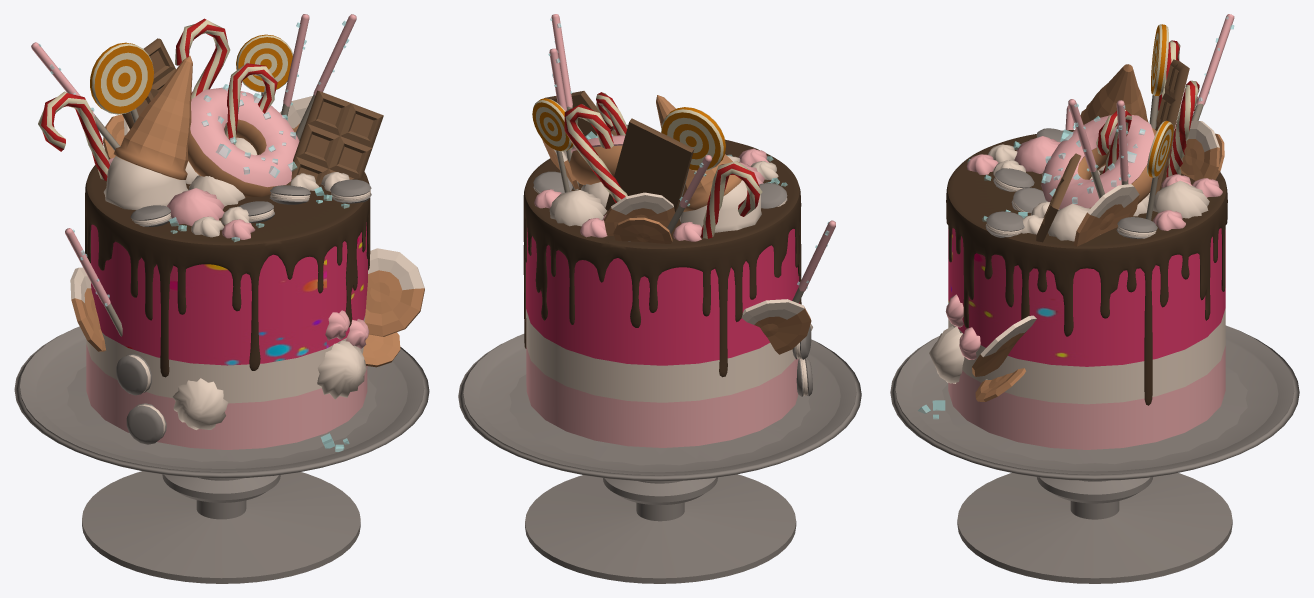
The model's file is cake_v22.glb.
3 views of the same model, side by side, from view 1: azimuth 30°, elevation 25°; view 2: azimuth 150°, elevation 25°; view 3: azimuth 270°, elevation 25° (orthographic). The views are drawn at different scales.
Visible parts, largest first — view 1: pCylinder19_gold_0_81, pCylinder1_main_0_74, pCylinder3_chocolate_0_116, pCylinder1_palepink1_0_75, pCylinder1_white_0_76, pCube38_palepink1_0_38, pCube54_choco_0_70, pCylinder18_waffel_0_78, pCylinder18_white_0_79, pCylinder30_waffel_0_118, pCylinder28_blinn5_0_108, palepink18_white_0_16 (+28 smaller); view 2: pCylinder19_gold_0_81, pCylinder1_main_0_74, pCylinder3_chocolate_0_116, pCylinder1_palepink1_0_75, pCylinder1_white_0_76, pCube70_choco_0_72, pCylinder18_white_0_79, palepink12_white_0_4, pCylinder28_blinn5_0_108, pCylinder35_waffel_0_133, pCylinder18_waffel_0_78, pCylinder28_lambert1_0_109 (+17 smaller); view 3: pCylinder19_gold_0_81, pCylinder1_main_0_74, pCylinder3_chocolate_0_116, pCylinder1_palepink1_0_75, pCylinder1_white_0_76, pCube38_palepink1_0_38, pCylinder18_waffel_0_78, palepink12_white_0_4, pCube70_choco_0_72, palepink17_white_0_14, pCylinder33_waffel_0_127, pCylinder32_waffel_0_124 (+26 smaller).
Boxes of the visible parts, x1,y1,x2,y2 form: pCylinder19_gold_0_81: [14, 326, 429, 583]; pCylinder1_main_0_74: [90, 222, 367, 365]; pCylinder3_chocolate_0_116: [85, 165, 370, 377]; pCylinder1_palepink1_0_75: [86, 344, 367, 449]; pCylinder1_white_0_76: [86, 315, 365, 403]; pCube38_palepink1_0_38: [190, 87, 299, 187]; pCube54_choco_0_70: [287, 90, 383, 185]; pCylinder18_waffel_0_78: [113, 56, 192, 179]; pCylinder18_white_0_79: [103, 156, 188, 210]; pCylinder30_waffel_0_118: [364, 270, 424, 336]; pCylinder28_blinn5_0_108: [90, 42, 153, 113]; palepink18_white_0_16: [172, 378, 228, 429]; pCylinder19_gold_0_81: [458, 334, 861, 583]; pCylinder1_main_0_74: [526, 228, 799, 365]; pCylinder3_chocolate_0_116: [523, 139, 801, 377]; pCylinder1_palepink1_0_75: [526, 347, 798, 447]; pCylinder1_white_0_76: [526, 309, 795, 402]; pCube70_choco_0_72: [605, 118, 694, 212]; pCylinder18_white_0_79: [679, 180, 761, 232]; palepink12_white_0_4: [549, 190, 606, 226]; pCylinder28_blinn5_0_108: [661, 107, 725, 170]; pCylinder35_waffel_0_133: [754, 306, 811, 354]; pCylinder18_waffel_0_78: [656, 95, 741, 211]; pCylinder28_lambert1_0_109: [661, 108, 724, 170]; pCylinder19_gold_0_81: [890, 325, 1299, 583]; pCylinder1_main_0_74: [948, 228, 1225, 366]; pCylinder3_chocolate_0_116: [946, 130, 1227, 405]; pCylinder1_palepink1_0_75: [948, 346, 1225, 449]; pCylinder1_white_0_76: [948, 308, 1225, 404]; pCube38_palepink1_0_38: [1041, 114, 1154, 209]; pCylinder18_waffel_0_78: [1075, 64, 1148, 129]; palepink12_white_0_4: [1152, 180, 1209, 218]; pCube70_choco_0_72: [1155, 59, 1189, 194]; palepink17_white_0_14: [929, 326, 964, 383]; pCylinder33_waffel_0_127: [1166, 131, 1219, 180]; pCylinder32_waffel_0_124: [1073, 195, 1139, 246].
Size of the model in its own units: 2.36 by 3.08 by 2.36.
Materials: 12 (1 with a texture image).
